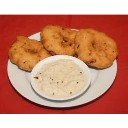vada: (75, 28, 118, 65), (40, 22, 78, 57), (10, 35, 47, 69)
